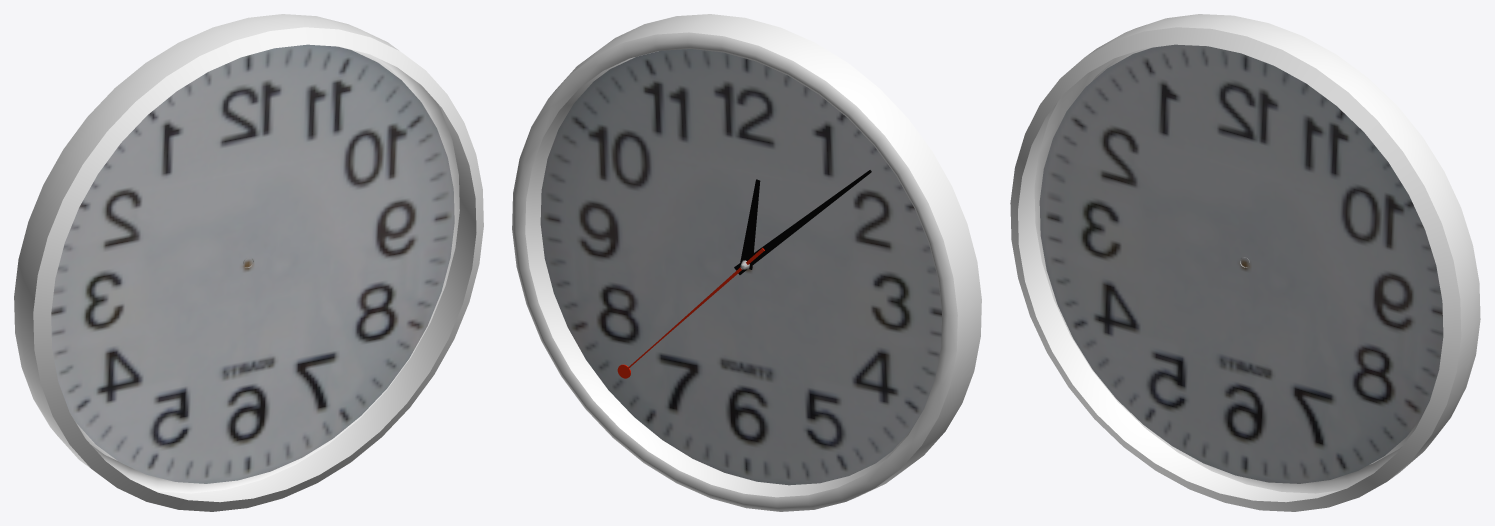
File: Clock.fbx
3 renders of one model, left to right at view 1: azimuth 30°, elevation 25°; view 2: azimuth 150°, elevation 25°; view 3: azimuth 330°, elevation 25°, orthographic.
Visible parts, largest first — view 1: Clock; view 2: Clock; view 3: Clock.
Part boxes in pixels (left/top/right/bottom): Clock: left=14, top=14, right=483, bottom=511; Clock: left=512, top=14, right=981, bottom=511; Clock: left=1010, top=14, right=1480, bottom=511.
Bounding box in the file's own units: 47.66 × 47.66 × 5.49.
